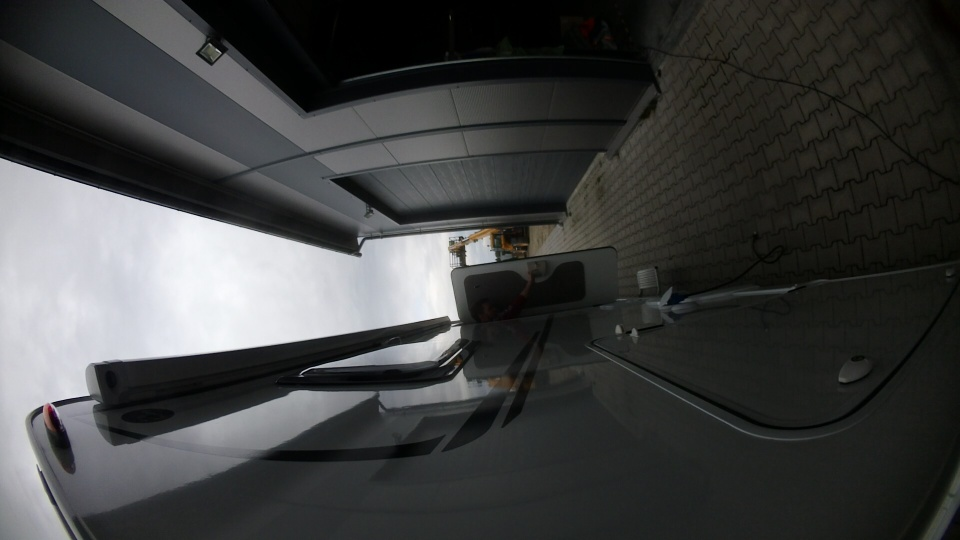door_back: (444, 242, 622, 329)
step_back: (632, 263, 664, 298)
